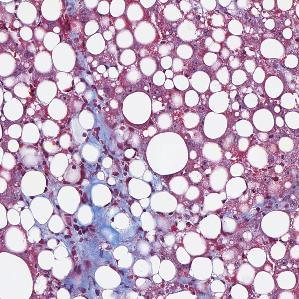fibrosis: (79, 209, 150, 271)
